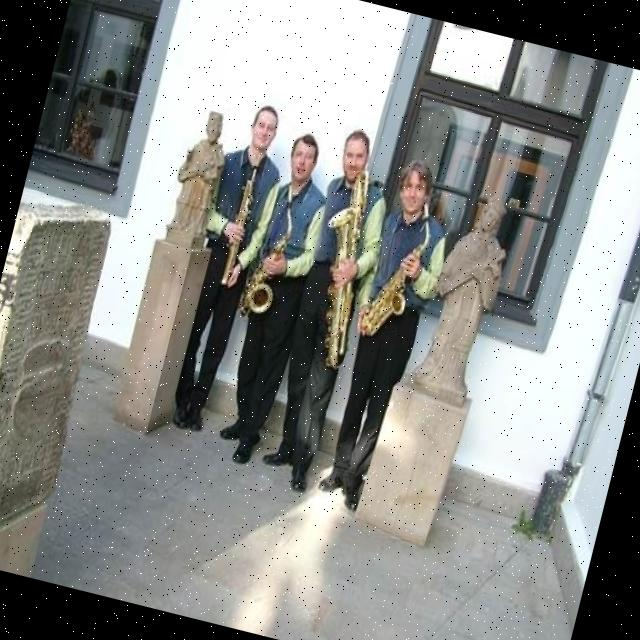saxophone: (290, 158, 393, 374), (354, 192, 440, 350), (232, 180, 308, 326)
